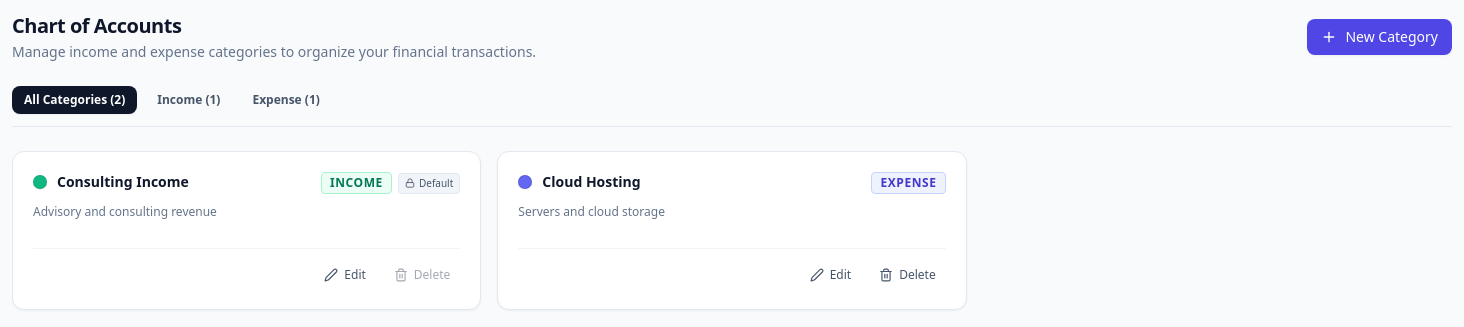
Scenario: Category Management Integration & Lifecycles › Category Listing & Filtering › filters categories by cash flow type (ALL, INCOME, EXPENSE)
Expected: the heading "Consulting Income" is shown, [57,172,189,192]
Expected: the heading "Cloud Hosting" is shown, [542,172,641,192]
Click Income filter
Click the button "Income (1)" at point(189, 100), box [145,86,232,114]
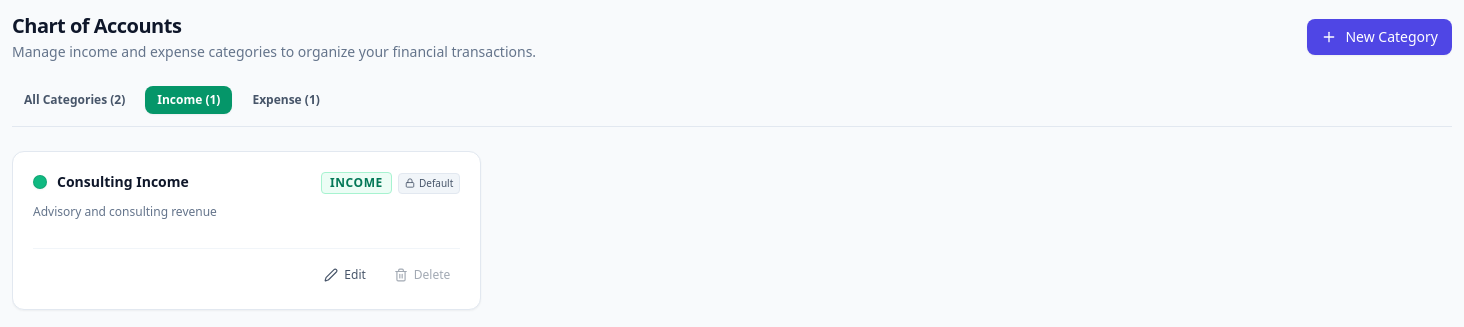
Expected: the heading "Consulting Income" is shown, [57,172,189,192]
Expected: the heading "Cloud Hosting" is gone
Click Expense filter
Click the button "Expense (1)" at point(286, 100), box [240,86,332,114]
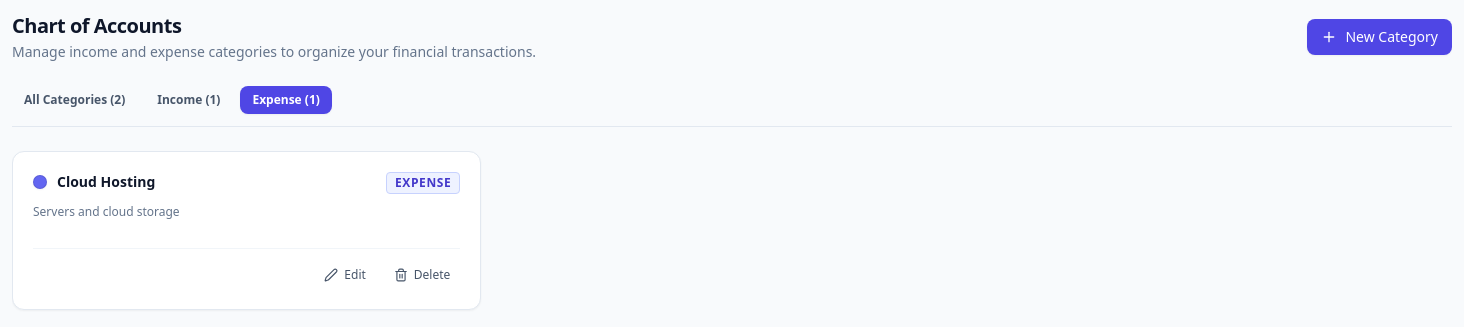
Expected: the heading "Consulting Income" is gone
Expected: the heading "Cloud Hosting" is shown, [57,172,155,192]
